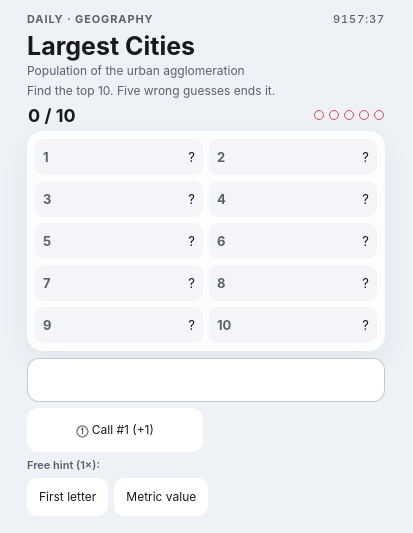
Test: submits a tapped suggestion immediately and never renders a submit button
Type "Tokyo" into the search field at {"x": 206, "y": 380}, box [27,358,385,402]
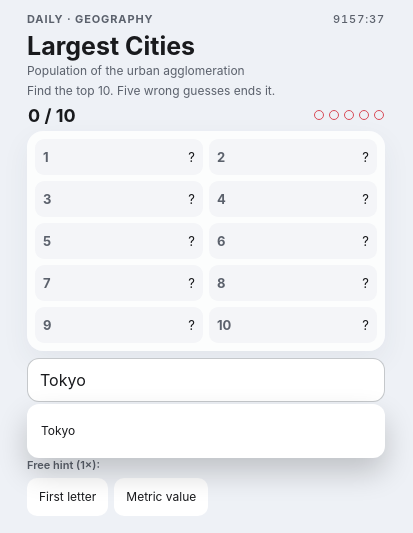
Click the button "Tokyo" at {"x": 58, "y": 430}, box [32,408,380,452]
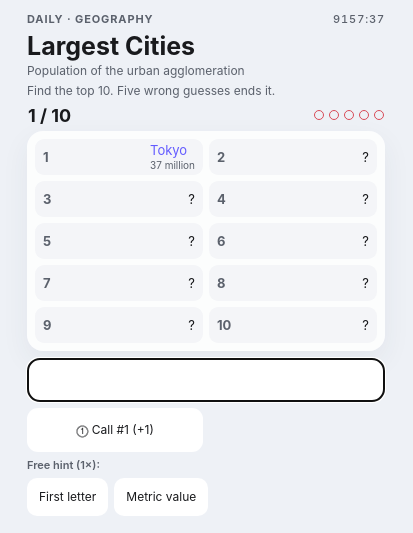
Expected: the text "1 / 10" is shown, [28,104,71,126]
Expected: the text "Tokyo" is shown, [150,142,187,158]
